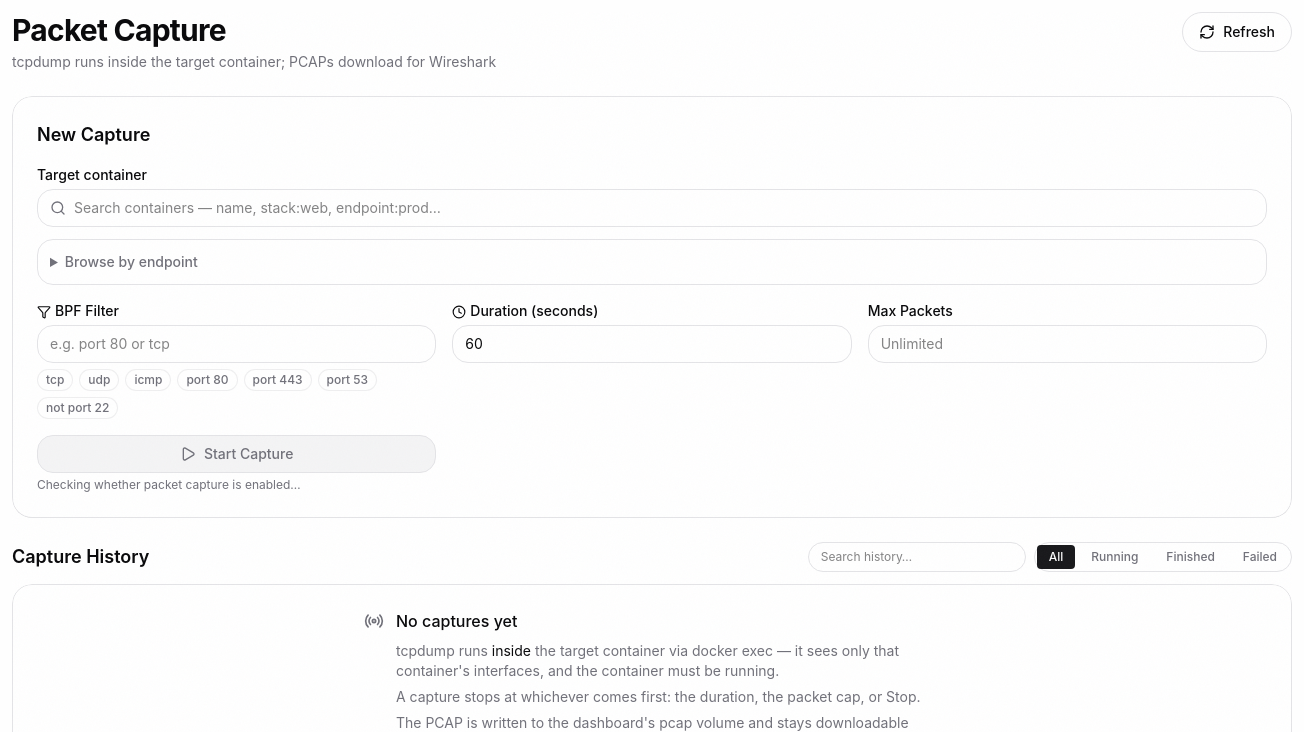
Test case: PacketCapture › keeps Start disabled while the status request is still in flight
In the dropdown named "Search capture target container": (664, 208) x1=74 y1=190 x2=1254 y2=226, type "api-1"
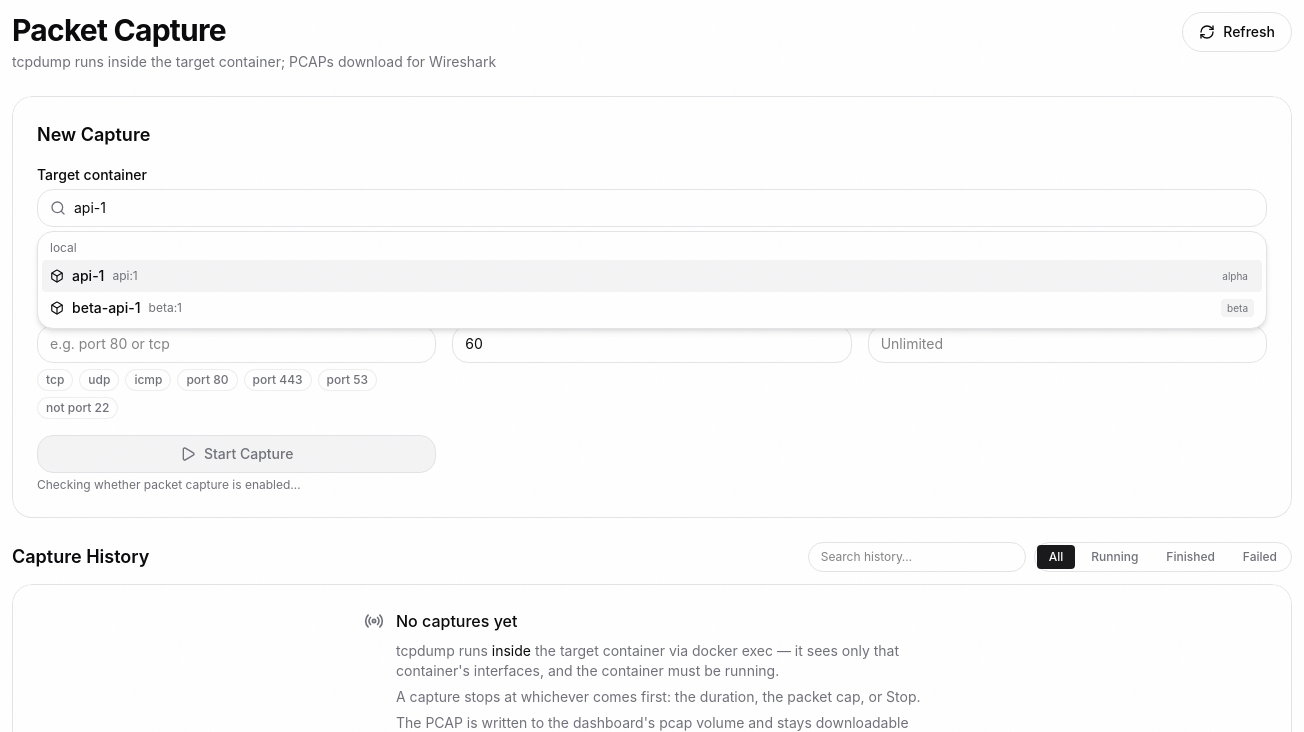
Click the text "api-1": (88, 276) x1=72 y1=266 x2=104 y2=286
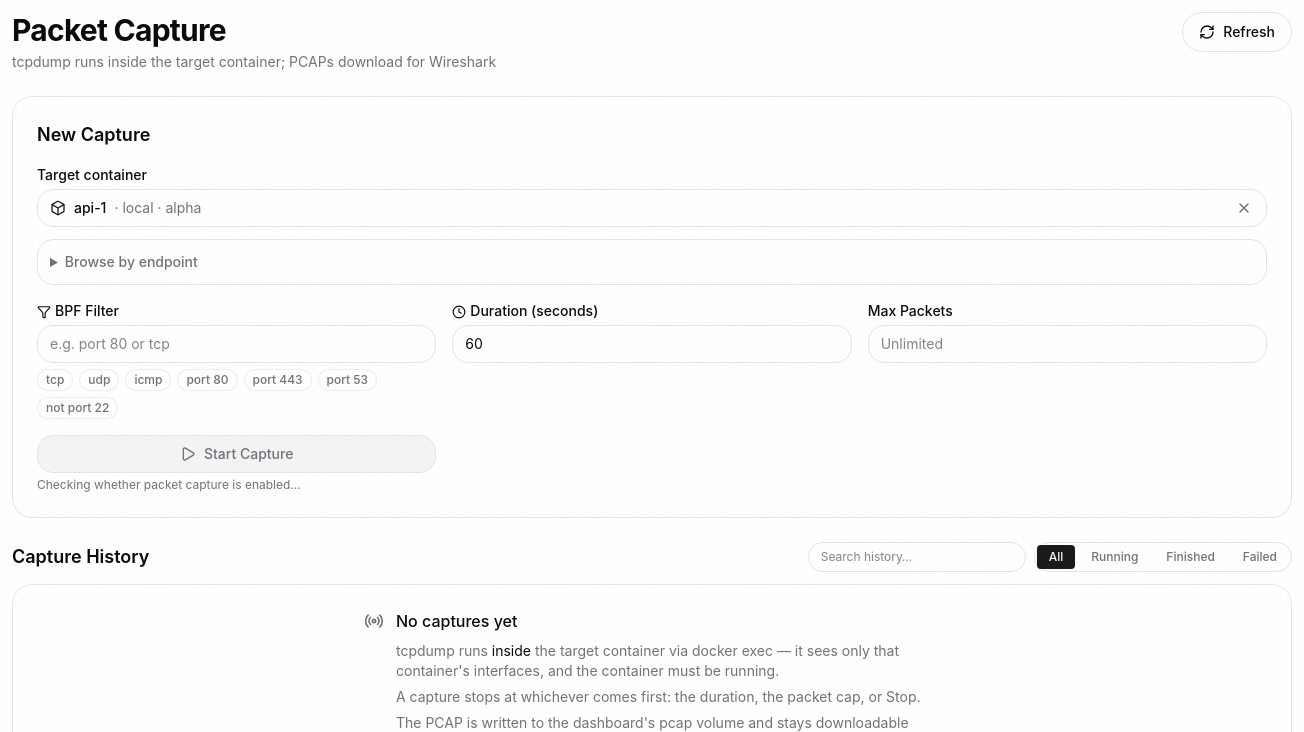
Expected: the button "Start Capture" is disabled, x1=37 y1=435 x2=436 y2=473
Now the button named "Clear selected container" is shown, box x1=1234 y1=198 x2=1254 y2=218
